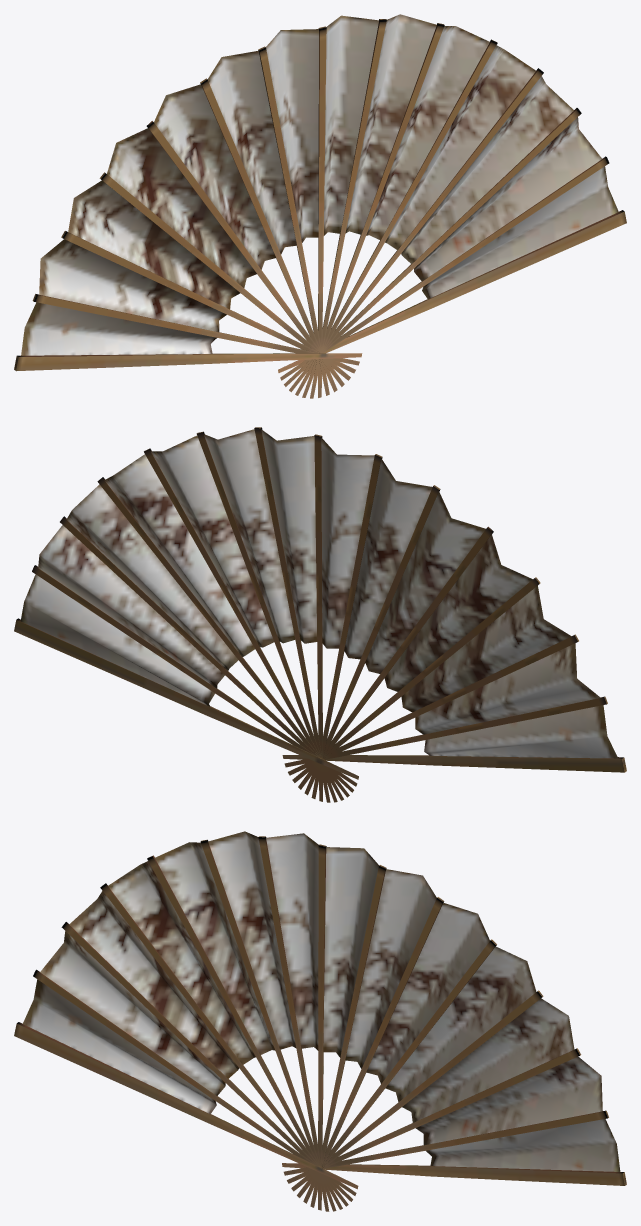
Rendered from fan.glb.
The picture shows the model from 3 angles, top to bottom: view 1: azimuth 30°, elevation 25°; view 2: azimuth 150°, elevation 25°; view 3: azimuth 330°, elevation 25°; orthographic projection.
Visible parts, largest first — view 1: weapon_chogeup_02.001; view 2: weapon_chogeup_02.001; view 3: weapon_chogeup_02.001.
Boxes of the visible parts, <box> form: weapon_chogeup_02.001: <box>14,14,626,398</box>; weapon_chogeup_02.001: <box>14,427,626,802</box>; weapon_chogeup_02.001: <box>14,831,626,1211</box>.
Bounding box in the file's own units: 83.35 × 47.91 × 3.7.
Materials: 1 (1 with a texture image).
